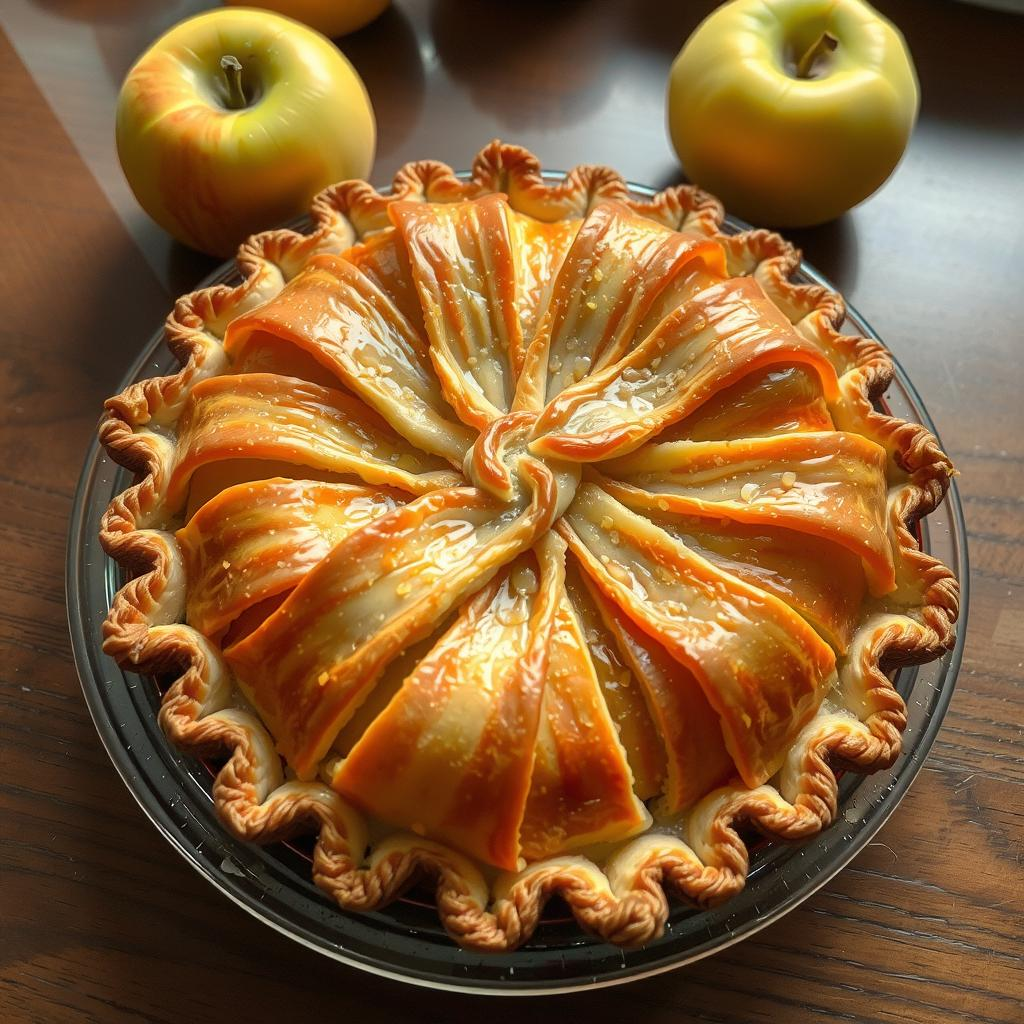pie: (83, 136, 989, 957)
